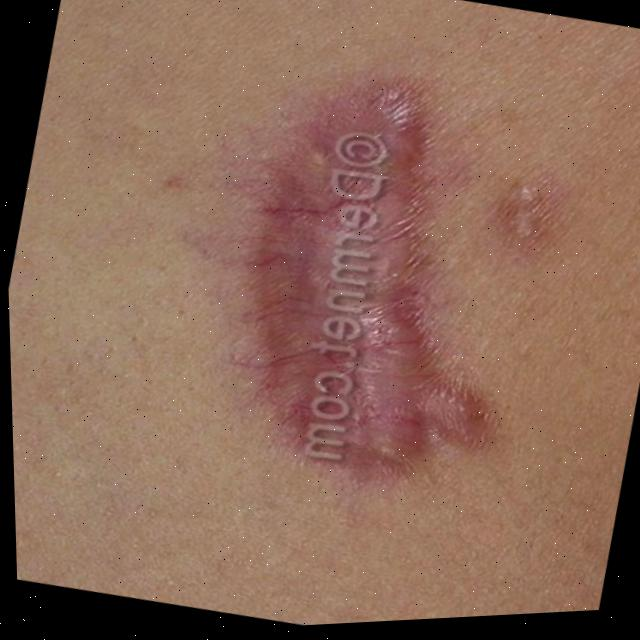Eczema: (219, 119, 483, 433)
